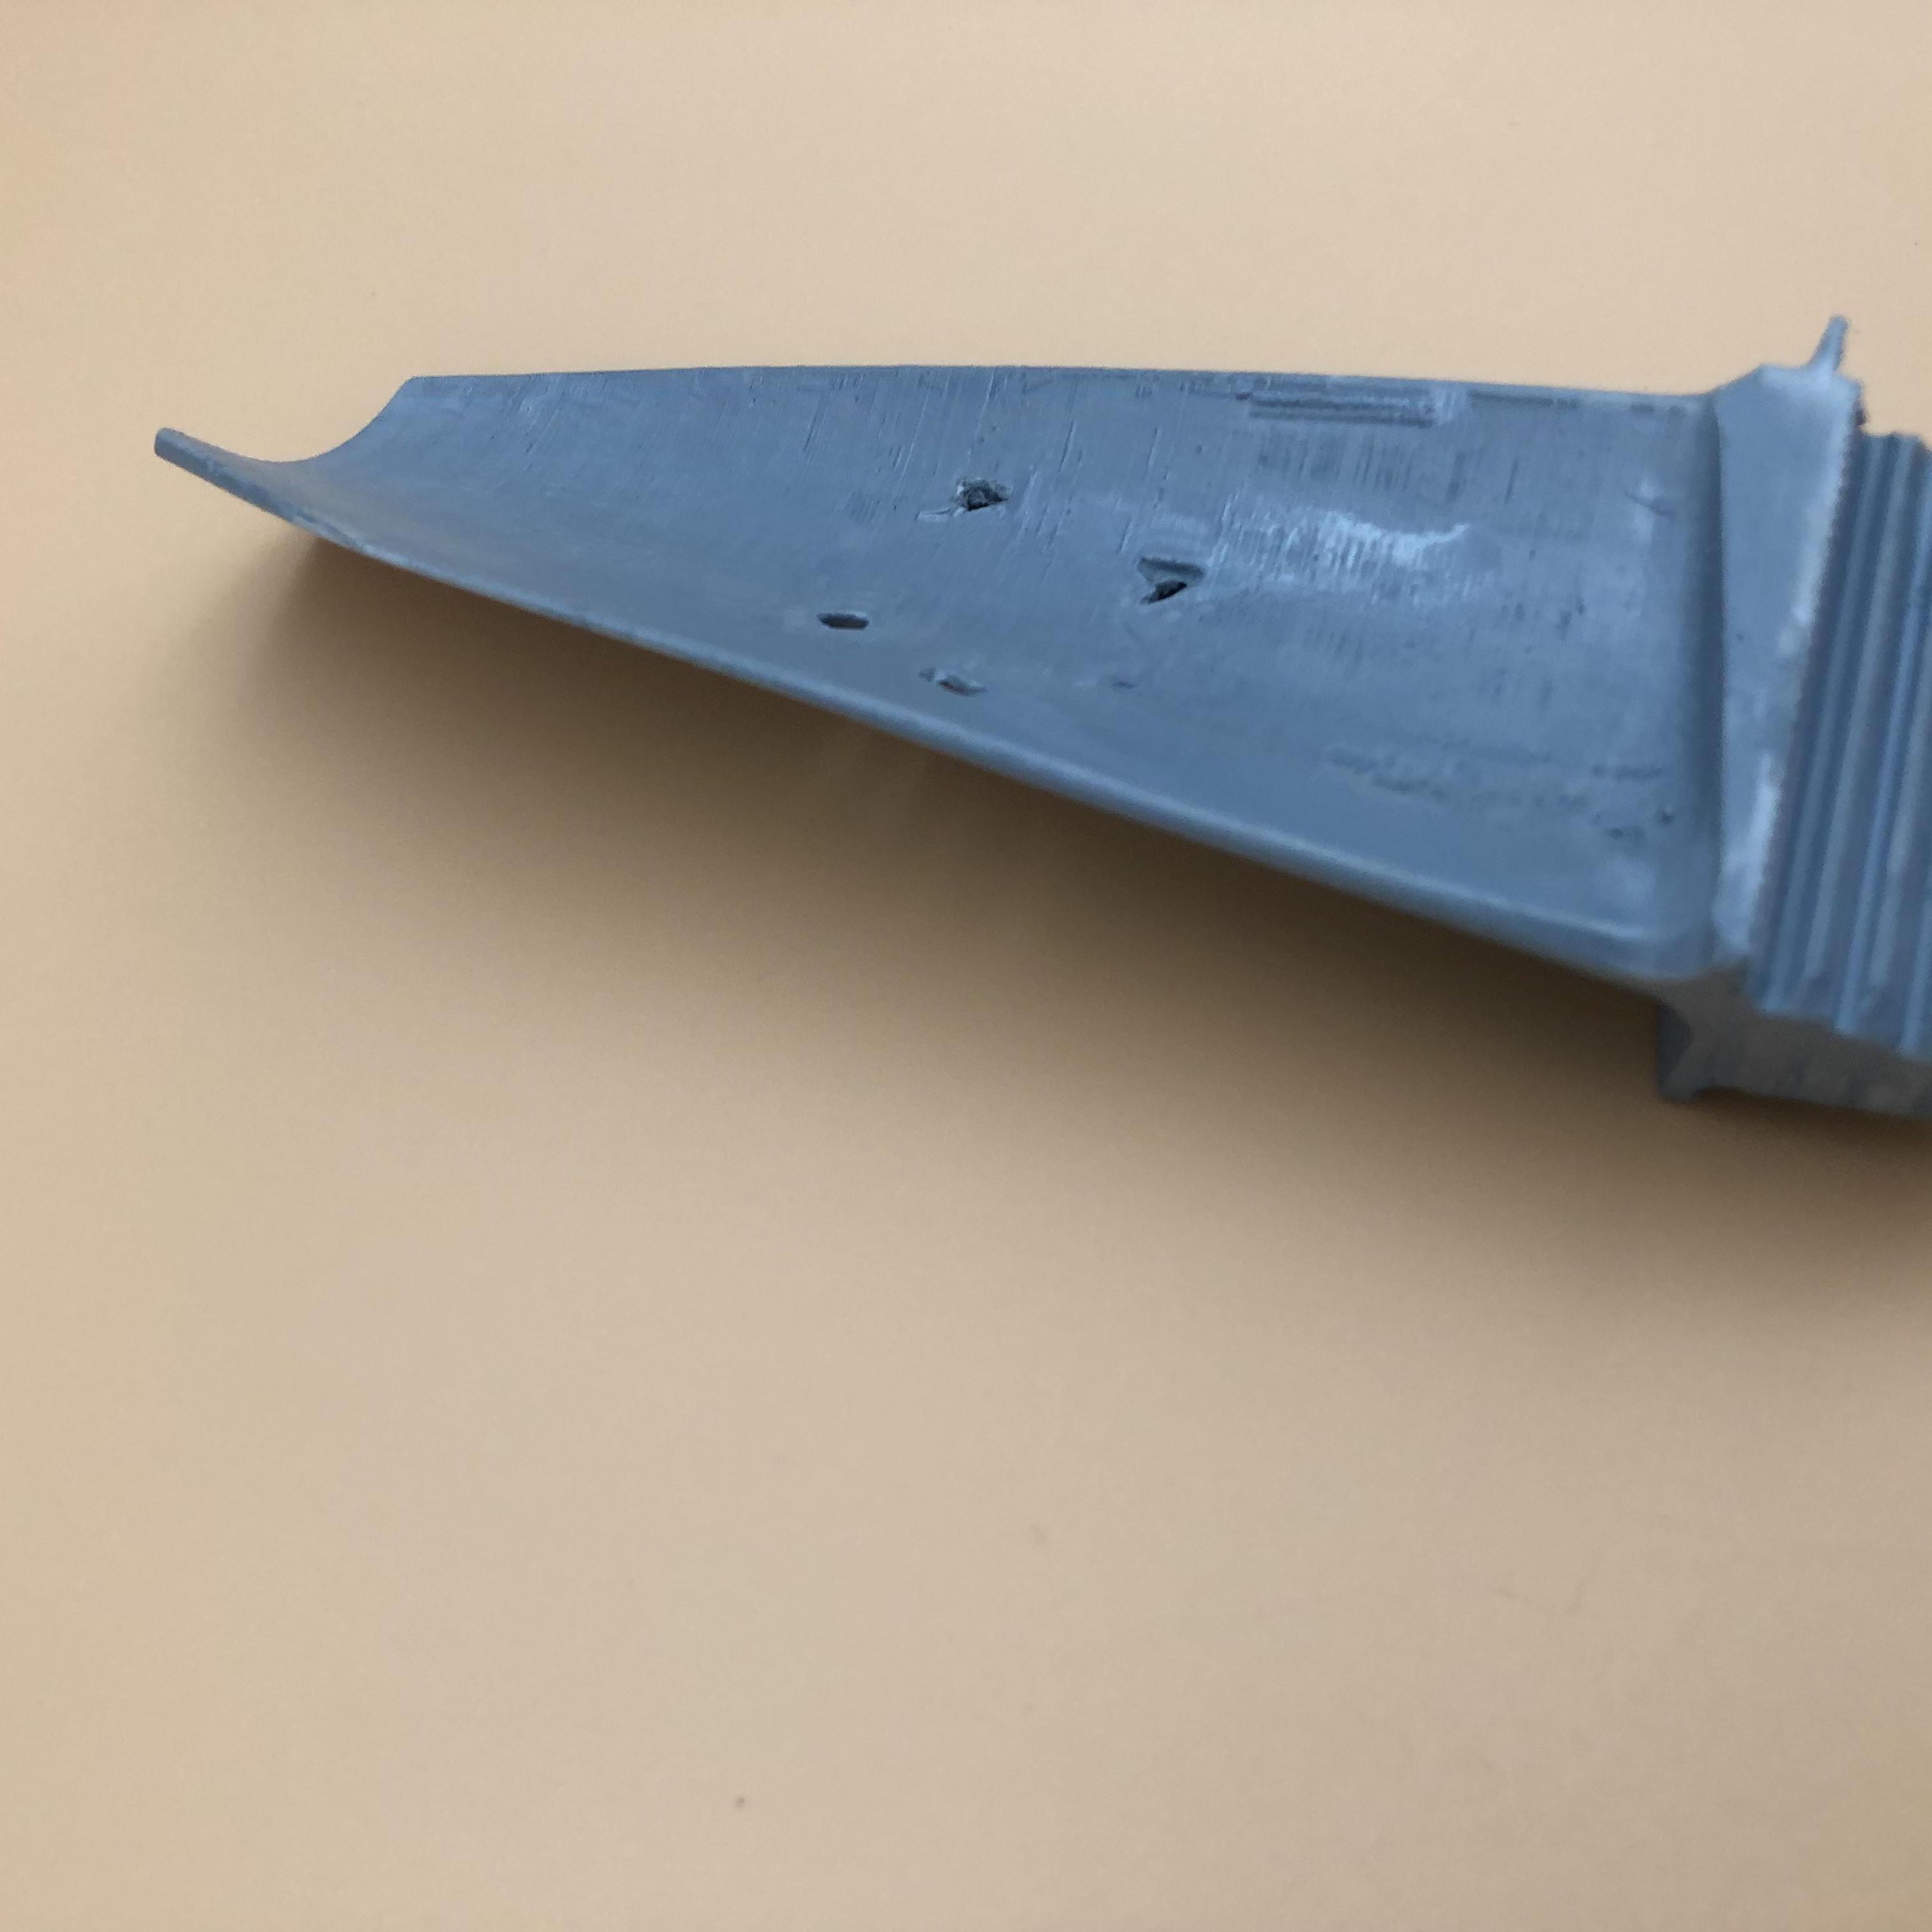breakdown: (934, 469, 1205, 605), (819, 603, 982, 701)
